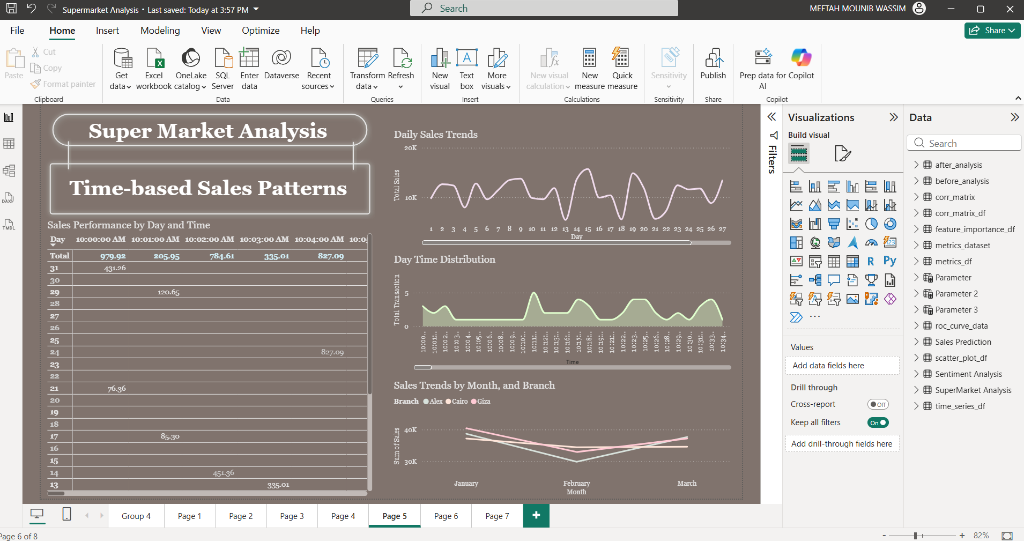

Layout of this report page (visuals, bound fields, positions):
{"tool":"powerbi","page":{"name":"Page 5","canvas":[1280,720],"ordinal":5},"visuals":[{"type":"shape","box":[7,98.1,602.9,111.4],"z":0,"group":"g2"},{"type":"pivotTable","title":"Sales Performance by Day and Time","fields":{"Rows":["SuperMarket Analysis.Date.Variation.Date Hierarchy.Day"],"Columns":["SuperMarket Analysis.Time"],"Values":["Sum(SuperMarket Analysis.Sales)"]},"box":[7.1,210,602.9,510],"z":0},{"type":"lineChart","title":"Daily Sales Trends","fields":{"Category":["SuperMarket Analysis.Date.Variation.Date Hierarchy.Month","SuperMarket Analysis.Date.Variation.Date Hierarchy.Day"],"Y":["Sum(SuperMarket Analysis.Sales)"]},"box":[640,45.7,625.7,217.1],"z":1000},{"type":"textbox","box":[26.5,126.2,557.8,56.4],"z":1000,"group":"g2"},{"type":"lineChart","title":"Sales Trends by Month, and Branch","fields":{"Category":["SuperMarket Analysis.Date.Variation.Date Hierarchy.Month","SuperMarket Analysis.Date.Variation.Date Hierarchy.Day"],"Y":["Sum(SuperMarket Analysis.Sales)"],"Series":["SuperMarket Analysis.Branch"]},"box":[640,502.9,625.7,217.1],"z":2000},{"type":"areaChart","title":"Day Time Distribution","fields":{"Category":["SuperMarket Analysis.Date.Variation.Date Hierarchy.Month","SuperMarket Analysis.Date.Variation.Date Hierarchy.Day","SuperMarket Analysis.Time"],"Y":["CountNonNull(SuperMarket Analysis.Invoice ID)"]},"box":[640,272.9,625.7,217.1],"z":3000},{"type":"group","id":"g1","title":"Group 3","box":[7,8.1,602.9,201.4],"z":4000},{"type":"shape","box":[11.3,8.1,592.9,77.1],"z":7000,"group":"g1"},{"type":"textbox","box":[48.4,21,512.9,64.3],"z":8000,"group":"g1"},{"type":"group","id":"g2","title":"Group 1","box":[7,98.1,602.9,111.4],"z":9000,"group":"g1"},{"type":"shape","box":[41.3,59.5,14.3,67.1],"z":10000,"group":"g1"},{"type":"shape","box":[561.3,61,15.7,67.1],"z":11000,"group":"g1"}]}

Visuals, with their boxes on the page's 1280x720 design canvas (x1, y1, x2, y2). These are canvas units, not pixel positions in the 1024x541 screenshot, which may show the page scaled, cropped or inside an application window:
shape: rect(7, 98, 610, 210)
"Sales Performance by Day and Time" pivotTable: rect(7, 210, 610, 720)
"Daily Sales Trends" lineChart: rect(640, 46, 1266, 263)
textbox: rect(26, 126, 584, 183)
"Sales Trends by Month, and Branch" lineChart: rect(640, 503, 1266, 720)
"Day Time Distribution" areaChart: rect(640, 273, 1266, 490)
"Group 3" group: rect(7, 8, 610, 210)
shape: rect(11, 8, 604, 85)
textbox: rect(48, 21, 561, 85)
"Group 1" group: rect(7, 98, 610, 210)
shape: rect(41, 60, 56, 127)
shape: rect(561, 61, 577, 128)
